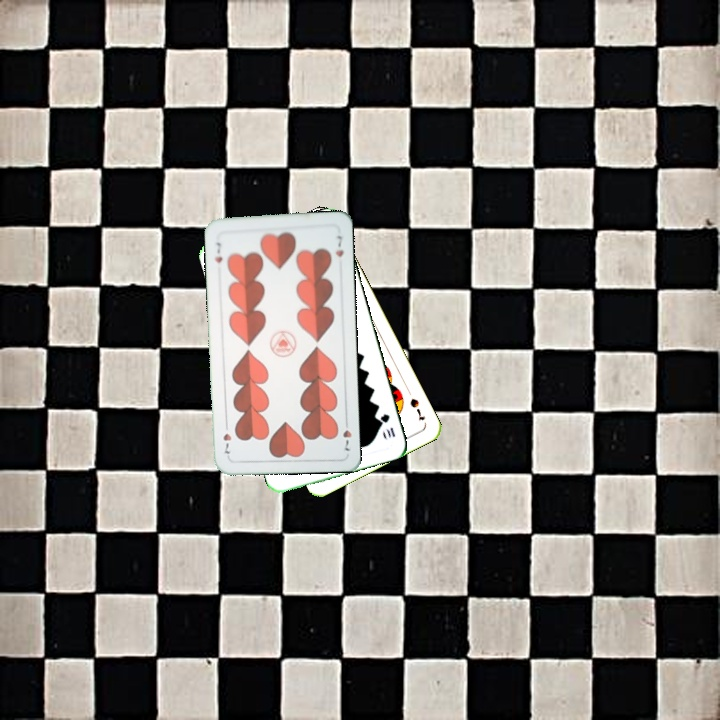G10: (376, 410, 398, 441)
H7: (339, 415, 354, 453), (211, 238, 225, 265)
S7: (406, 394, 427, 423)
